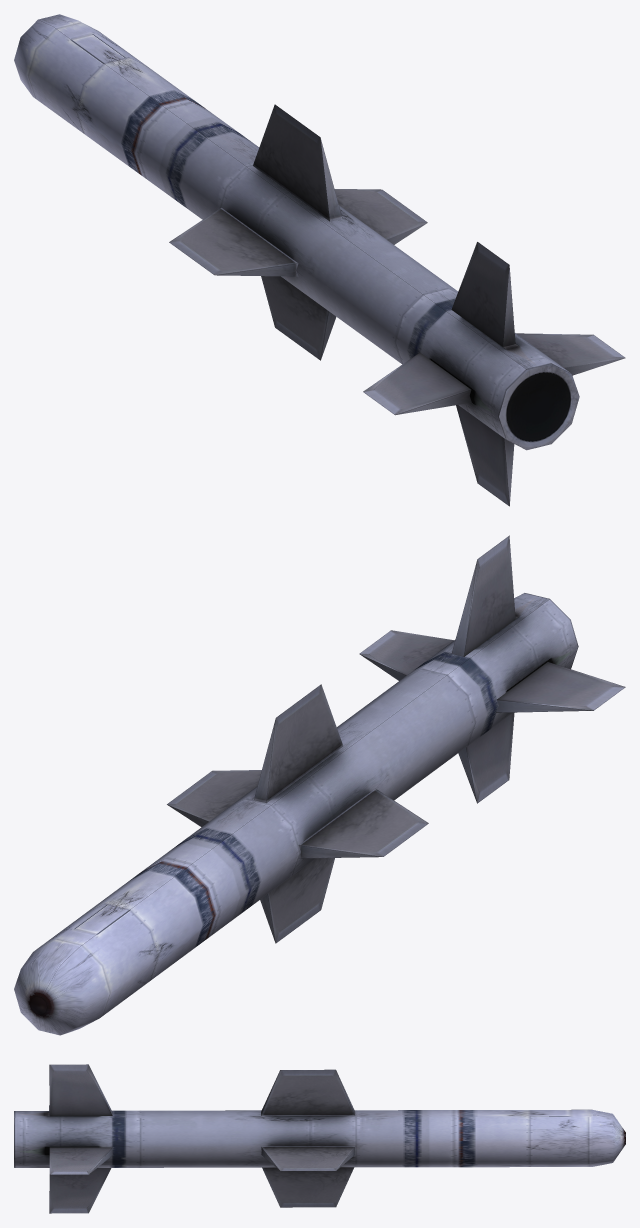
Rendered from missile.FBX.
The picture shows the model from 3 angles, top to bottom: view 1: azimuth 30°, elevation 25°; view 2: azimuth 150°, elevation 25°; view 3: azimuth 270°, elevation 25°; orthographic projection. The views are drawn at different scales.
Visible parts, largest first — view 1: Cylinder001; view 2: Cylinder001; view 3: Cylinder001.
Part boxes in pixels (box(x1,y1,x2,y2)): Cylinder001: box(14, 14, 625, 506); Cylinder001: box(14, 535, 625, 1035); Cylinder001: box(14, 1064, 625, 1213).
Bounding box in the file's own units: 0.88 × 0.8775 × 3.27.
